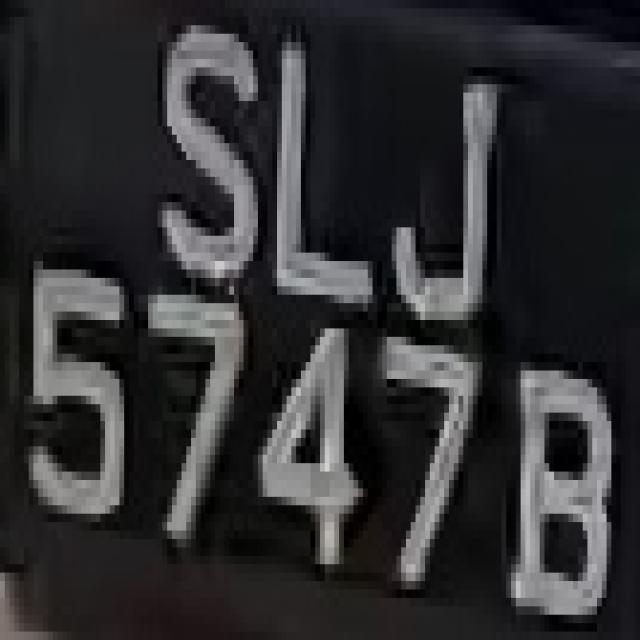4: (253, 312, 377, 590)
5: (19, 219, 129, 539)
7: (120, 244, 248, 590), (363, 269, 482, 632)
B: (501, 311, 625, 640)
J: (372, 42, 497, 329)
L: (268, 42, 392, 337)
S: (144, 0, 268, 320)
